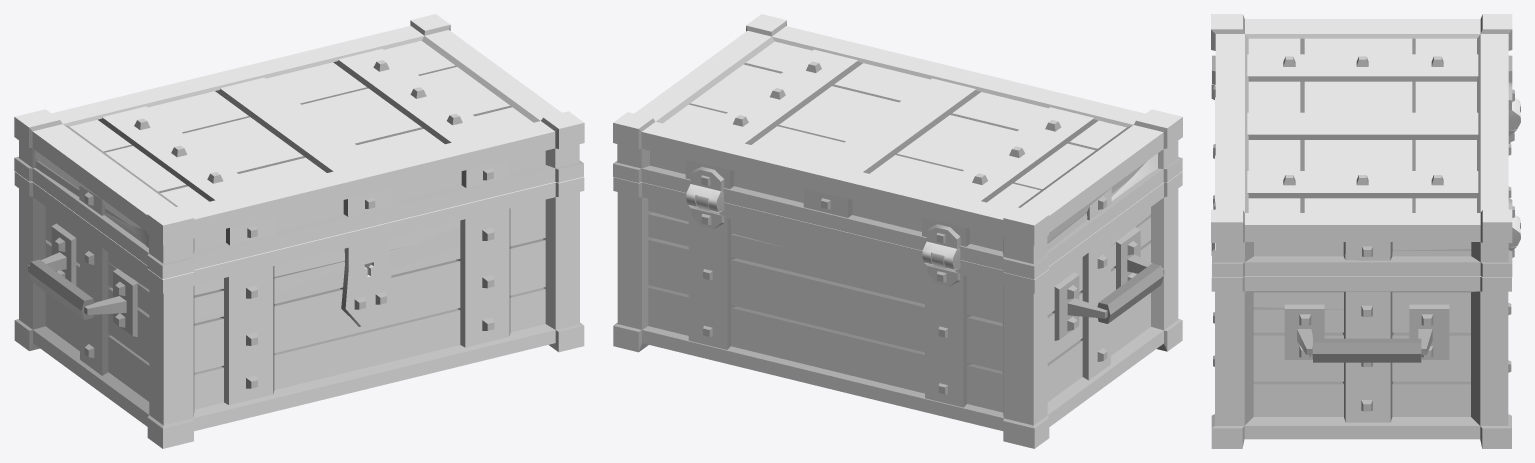
The model's file is PT_Chest_01.fbx.
The picture shows the model from 3 angles, left to right: view 1: azimuth 30°, elevation 25°; view 2: azimuth 150°, elevation 25°; view 3: azimuth 270°, elevation 25°; orthographic projection.
Visible parts, largest first — view 1: PT_Chest_01_lower, PT_Chest_01_upper; view 2: PT_Chest_01_lower, PT_Chest_01_upper; view 3: PT_Chest_01_upper, PT_Chest_01_lower.
Boxes of the visible parts, <box> form: PT_Chest_01_lower: <box>14,171,584,448</box>; PT_Chest_01_upper: <box>14,14,584,279</box>; PT_Chest_01_lower: <box>613,171,1182,448</box>; PT_Chest_01_upper: <box>613,14,1182,279</box>; PT_Chest_01_upper: <box>1211,14,1520,277</box>; PT_Chest_01_lower: <box>1211,69,1520,448</box>.
Size of the model in its own units: 84.64 by 37.51 by 46.32.
Materials: 1 (1 with a texture image).
